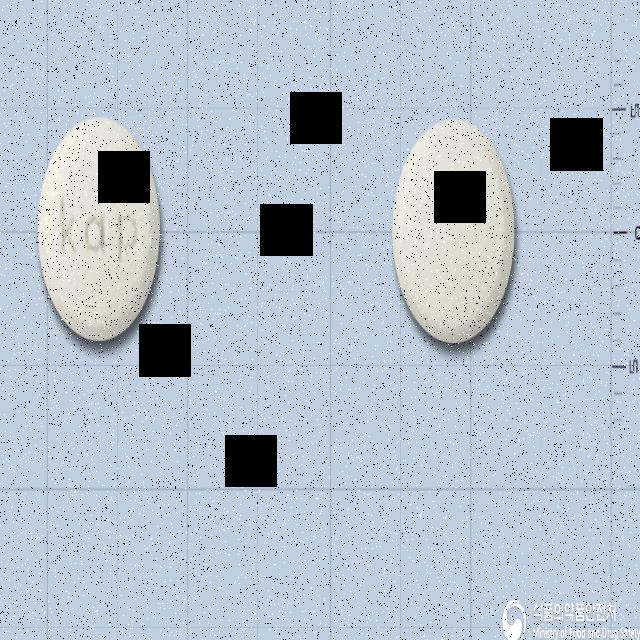Lebofacin: (36, 114, 162, 343)
